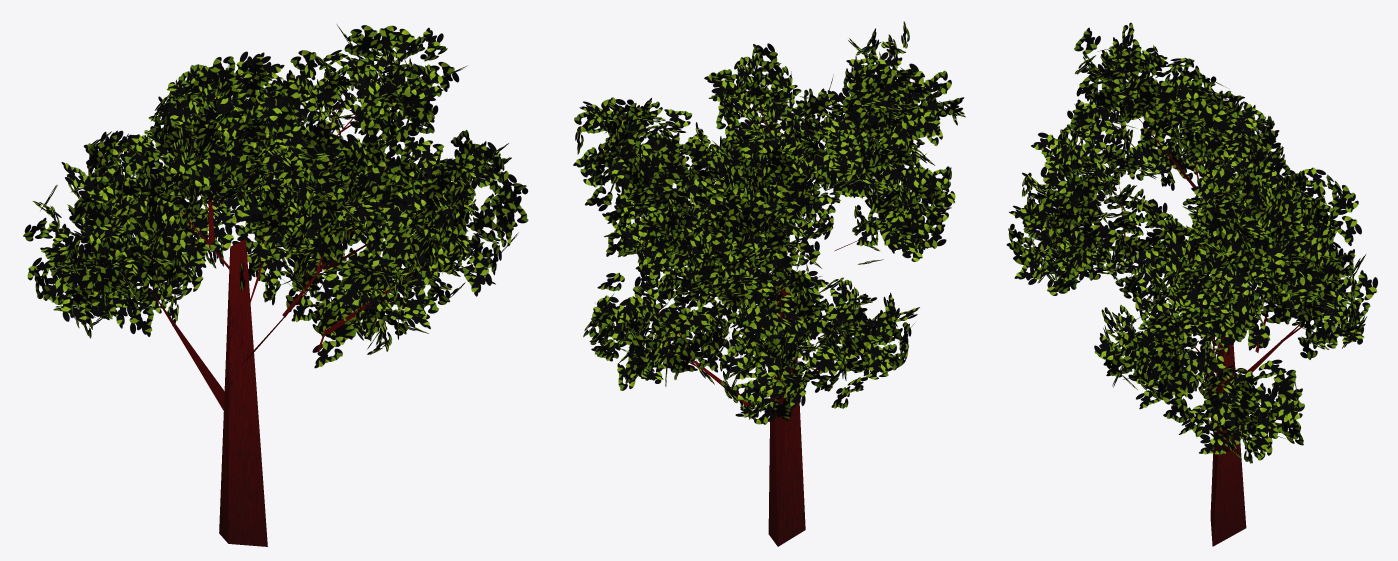
File: oak_broadleaf_v02_LOD2.glb
3 renders of one model, left to right at view 1: azimuth 30°, elevation 25°; view 2: azimuth 150°, elevation 25°; view 3: azimuth 270°, elevation 25°, orthographic. The views are drawn at different scales.
Visible parts, largest first — view 1: oak_broadleaf_v02_LOD2; view 2: oak_broadleaf_v02_LOD2; view 3: oak_broadleaf_v02_LOD2.
Part boxes in pixels (x1,y1,x2,y2): oak_broadleaf_v02_LOD2: [23, 24, 528, 546]; oak_broadleaf_v02_LOD2: [573, 21, 965, 546]; oak_broadleaf_v02_LOD2: [1006, 22, 1377, 546].
Size of the model in its own units: 18.36 by 22.22 by 15.73.
Materials: 2 (2 with a texture image).
